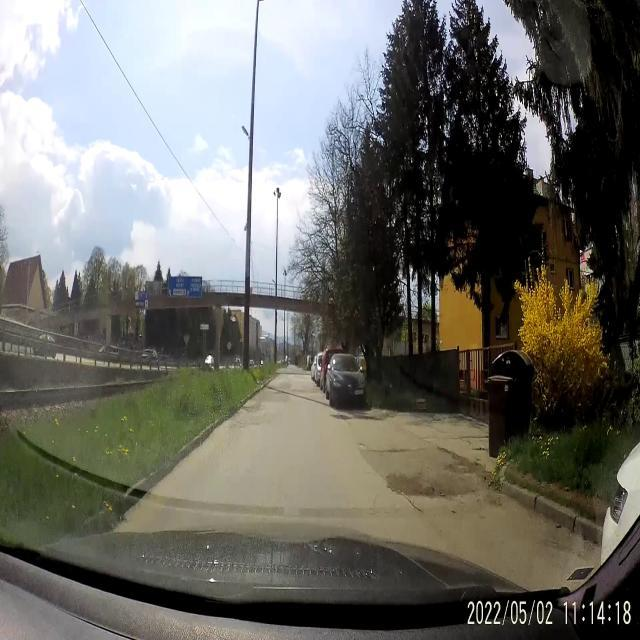Pothole: (371, 489, 426, 519), (354, 439, 371, 452)
